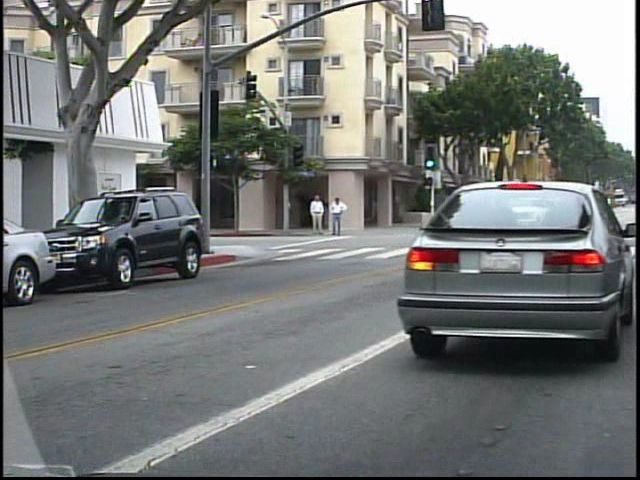person: (325, 193, 346, 239), (307, 192, 325, 238)
